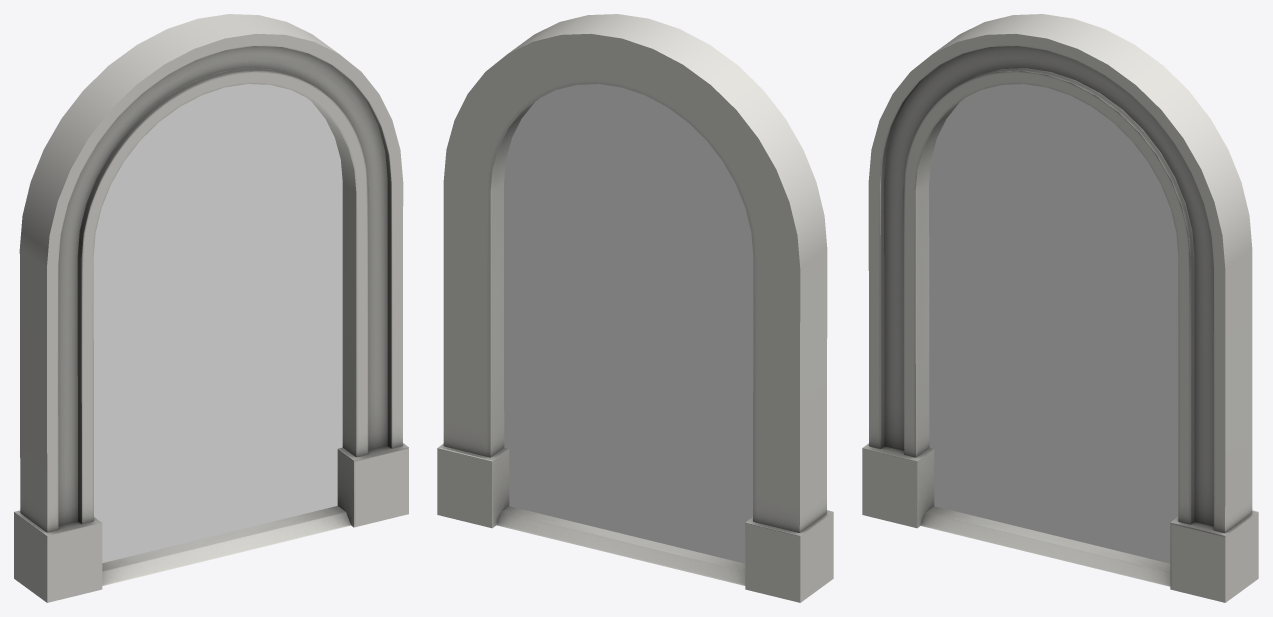
The model's file is portal_archway.fbx.
The picture shows the model from 3 angles, left to right: view 1: azimuth 30°, elevation 25°; view 2: azimuth 150°, elevation 25°; view 3: azimuth 330°, elevation 25°; orthographic projection.
Visible parts, largest first — view 1: entry, polySurface5; view 2: entry, polySurface5; view 3: entry, polySurface5.
Boxes of the visible parts, box(x1,y1,x2,y2) form: entry: box(93, 84, 342, 562); polySurface5: box(14, 14, 408, 602); entry: box(504, 84, 753, 563); polySurface5: box(437, 14, 833, 602); entry: box(929, 84, 1178, 563); polySurface5: box(862, 14, 1258, 602).
Size of the model in its own units: 2.09 by 2.85 by 0.3368.
Materials: 2 (2 with a texture image).
